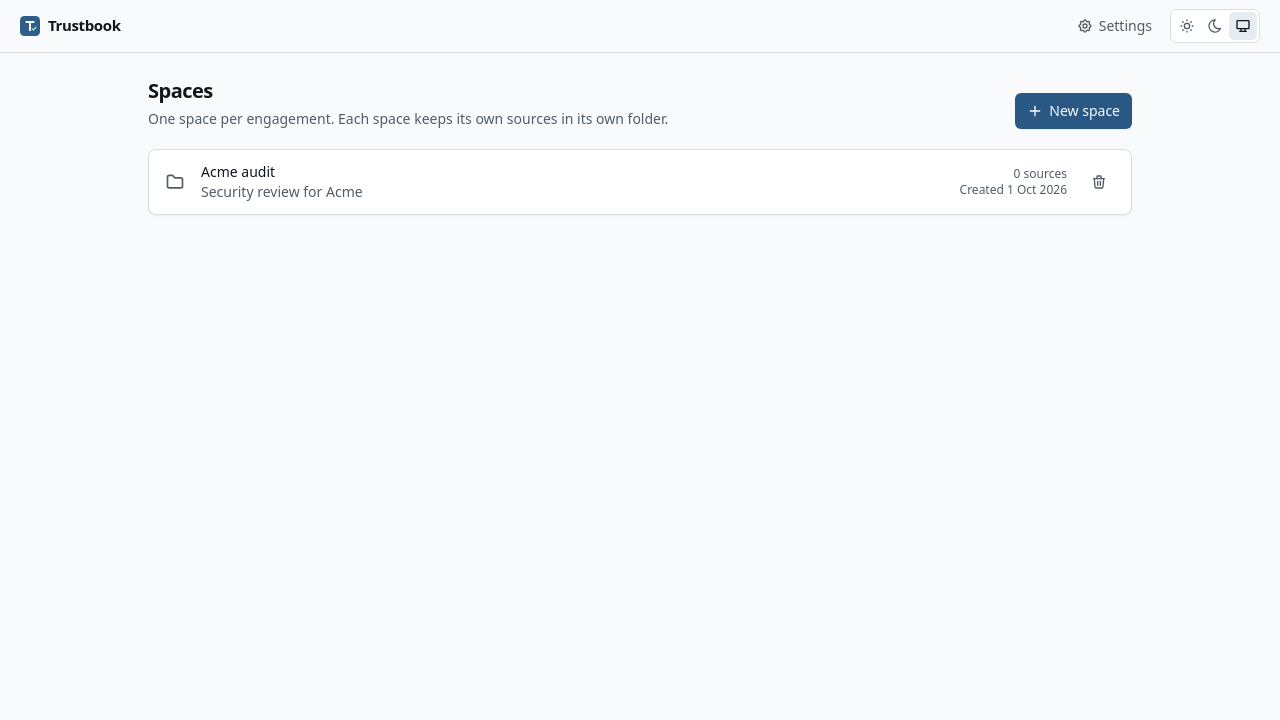
Scenario: spaces list › keeps the dialog open and explains when delete fails
Step 1. Click the button named "Delete Acme audit" → point(1099, 182), box [1083,166,1115,198]
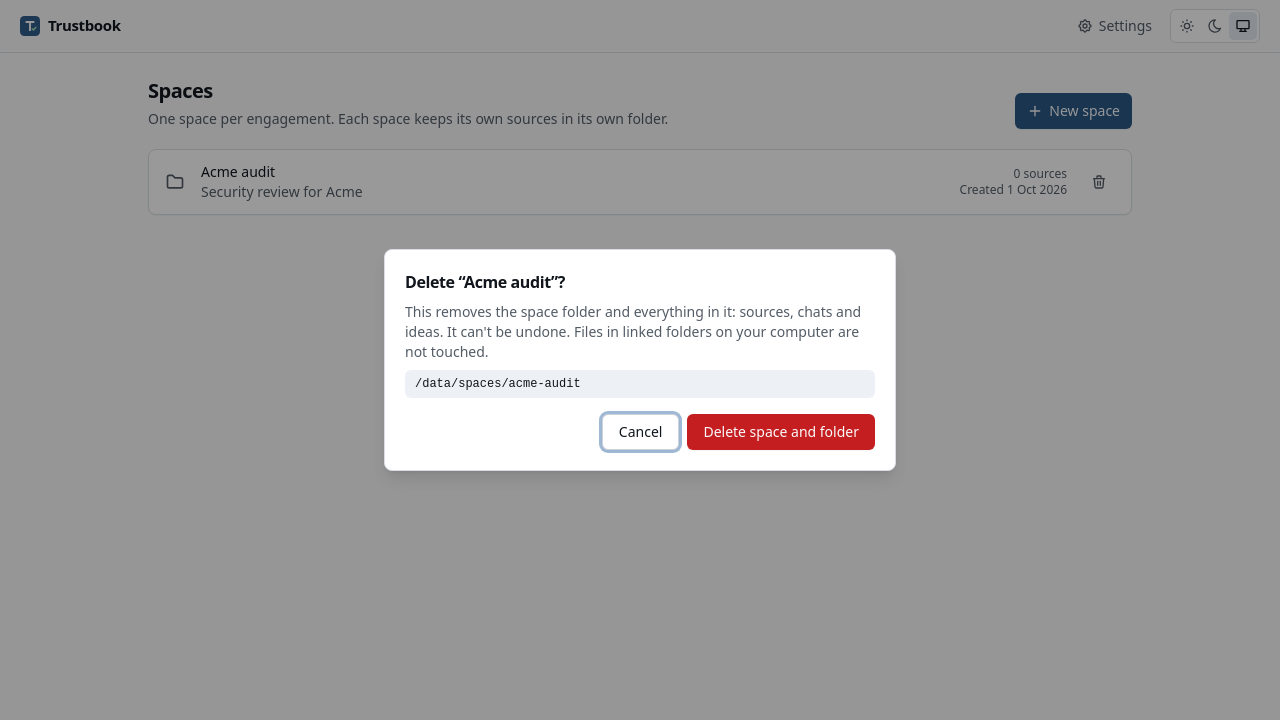
Step 2. Click the button "Delete space and folder" → point(781, 432), box [687,414,875,450]
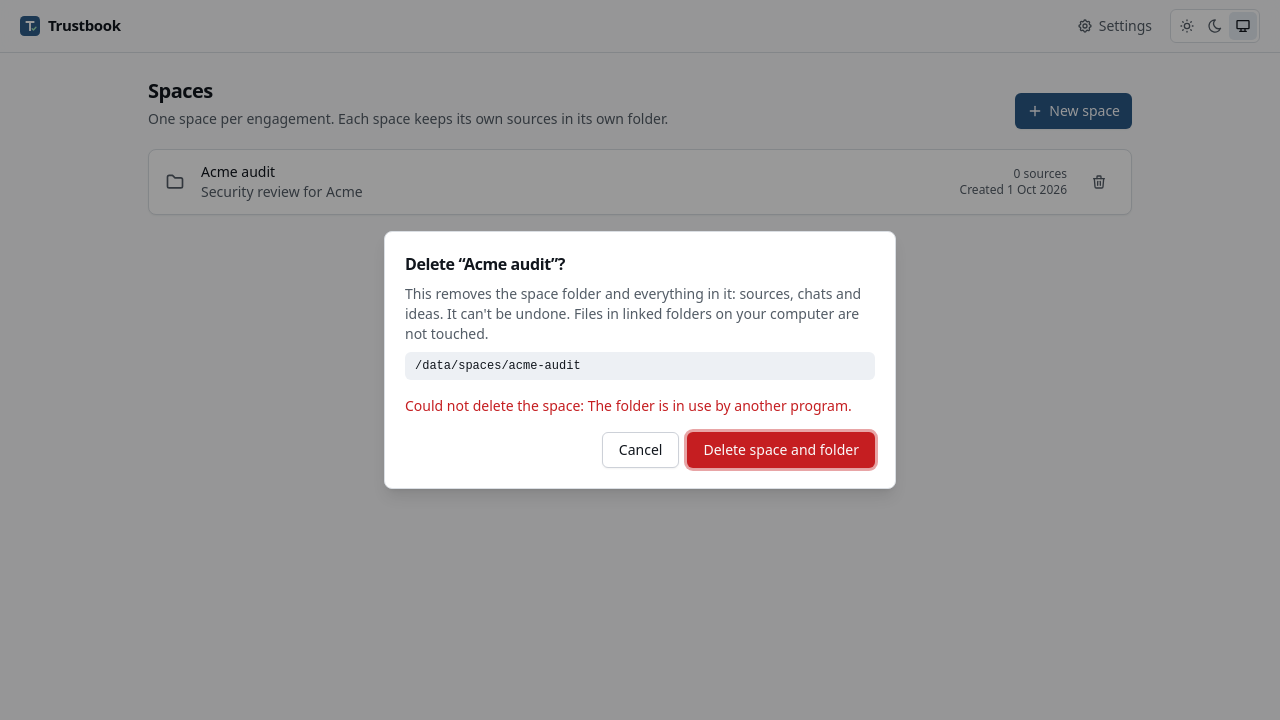
Expected: the message shows "The folder is in use by another program.", [588,396,852,415]
